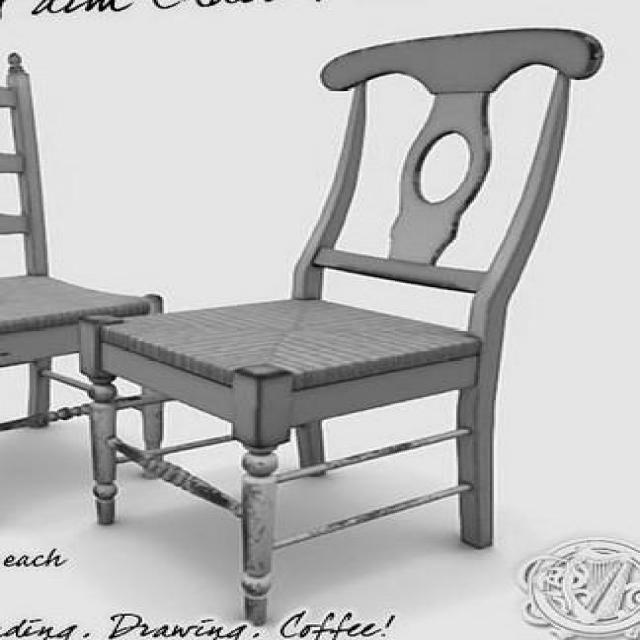chair: (87, 24, 604, 626), (2, 51, 166, 483)
